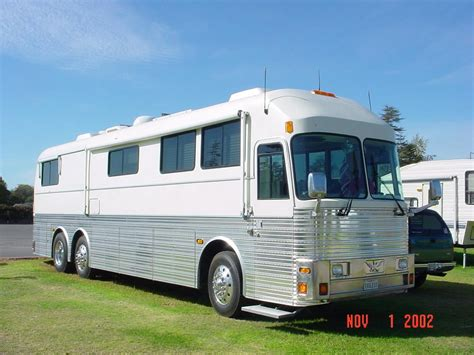bus: (32, 95, 415, 313)
